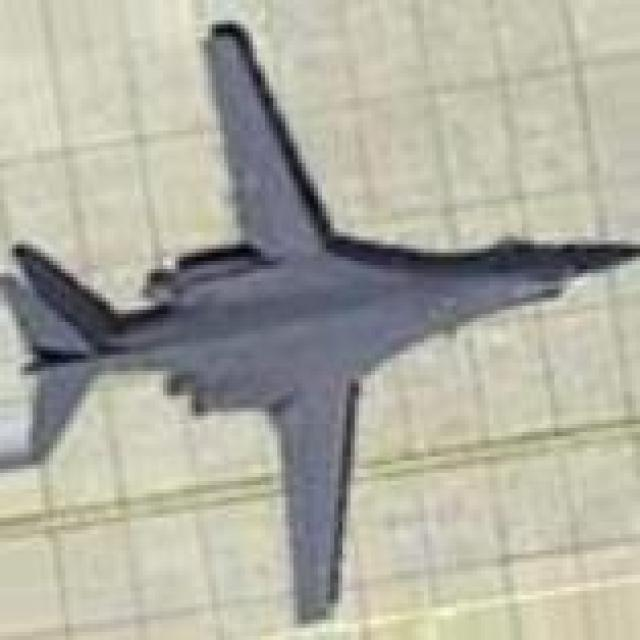B-1_TopDown: (0, 16, 636, 624)
